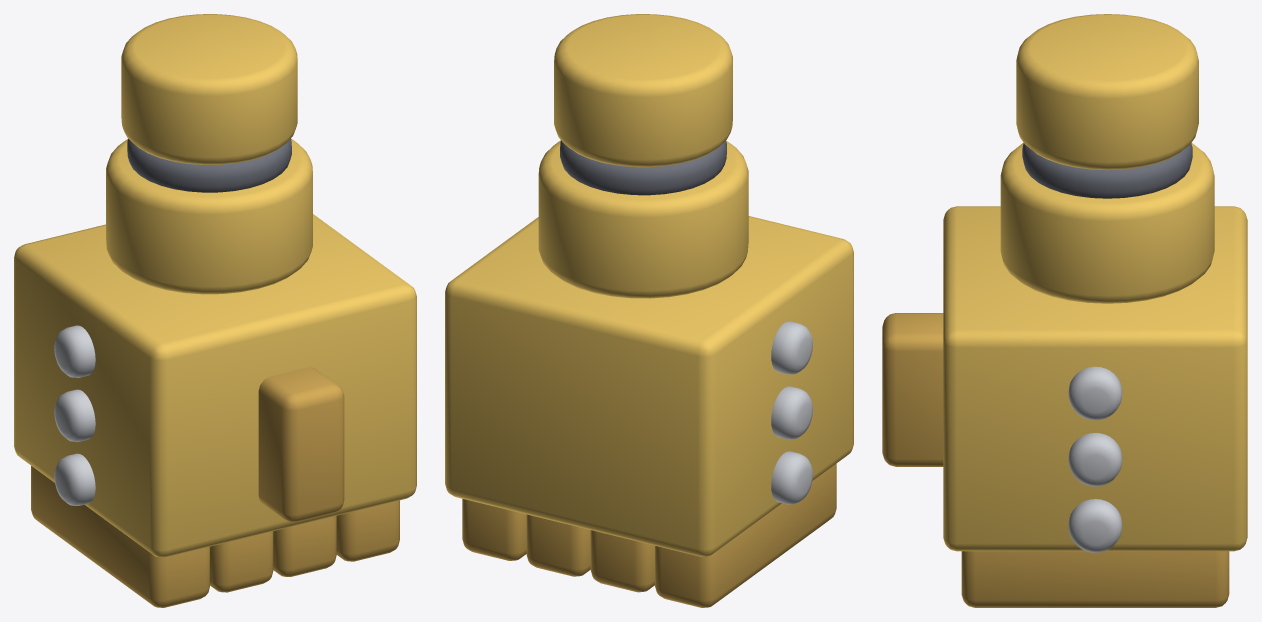
The model's file is blitzcrank_gauntletL.glb.
3 views of the same model, side by side, from view 1: azimuth 30°, elevation 25°; view 2: azimuth 150°, elevation 25°; view 3: azimuth 270°, elevation 25° (orthographic). The views are drawn at different scales.
Parts seen in each view (by area): view 1: blitzcrank_gauntletL; view 2: blitzcrank_gauntletL; view 3: blitzcrank_gauntletL.
Part boxes in pixels (x1,y1,x2,y2): blitzcrank_gauntletL: (14,14,416,607); blitzcrank_gauntletL: (445,14,853,607); blitzcrank_gauntletL: (882,14,1247,607).
Size of the model in its own units: 0.3 by 0.455 by 0.3.
